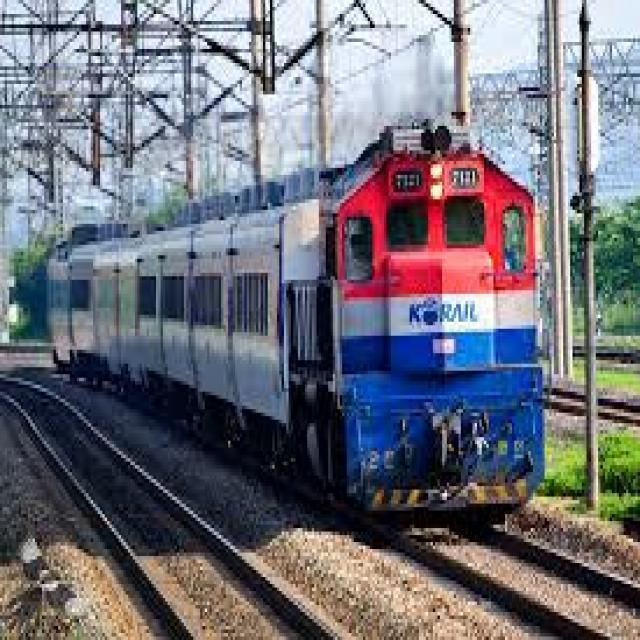trains: (47, 121, 548, 517)
